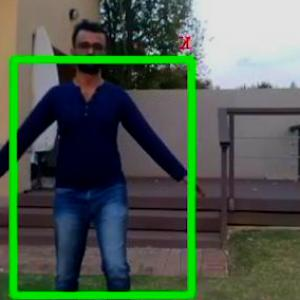land: (8, 40, 194, 299)
